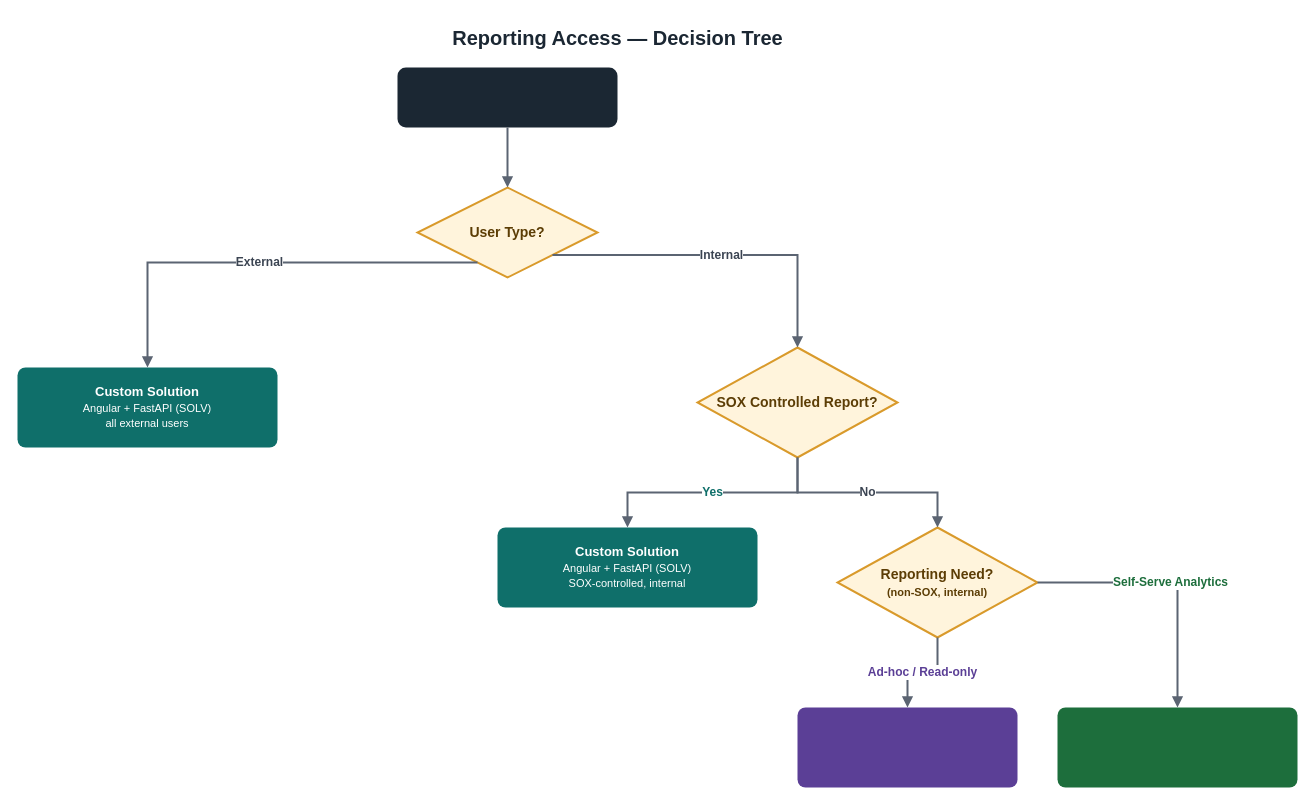
The diagram is 1314 pixels wide and 804 high, and some of its shapes have lost their labels. Each missing label, with the centre of its shape:
"NLQ Natural Language Query ad-hoc / read-only" goes at [907,747].
"Reporting Request" goes at [507,97].
"Tableau Self-Serve via SDL exposed data models" goes at [1177,747].
